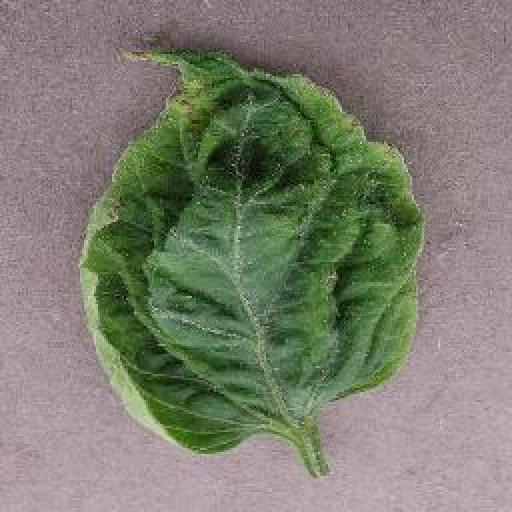disease_tomato: (83, 34, 425, 454)
